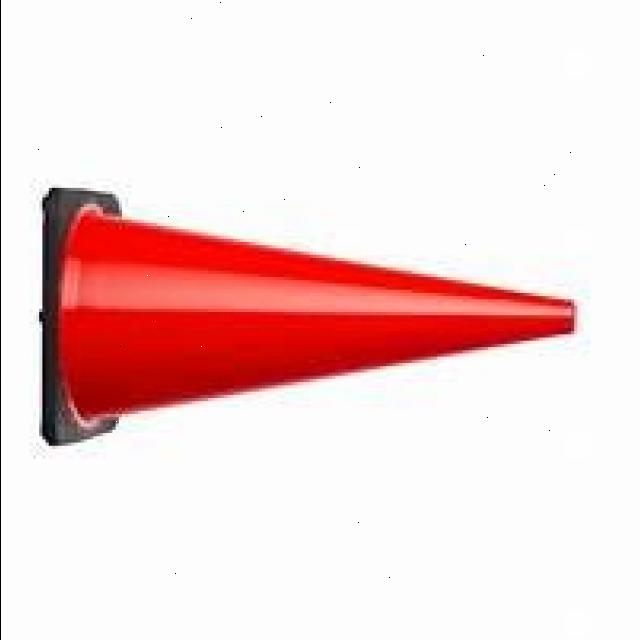traffic cone: (31, 180, 586, 459)
